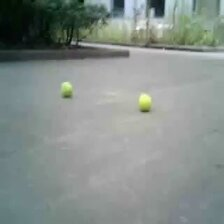tennis: (138, 93, 151, 110), (60, 82, 73, 96)
